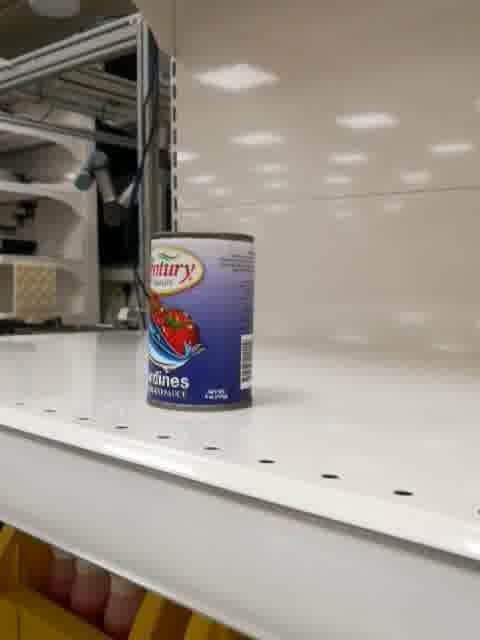sardine: (146, 229, 256, 413)
